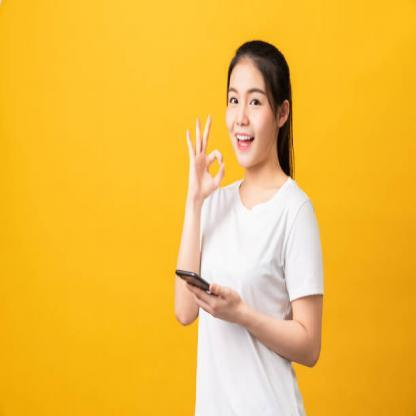ok: (186, 112, 226, 200)
